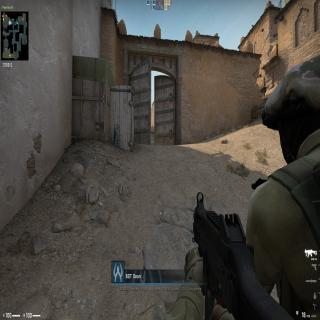CT-Head: (261, 52, 320, 162)
